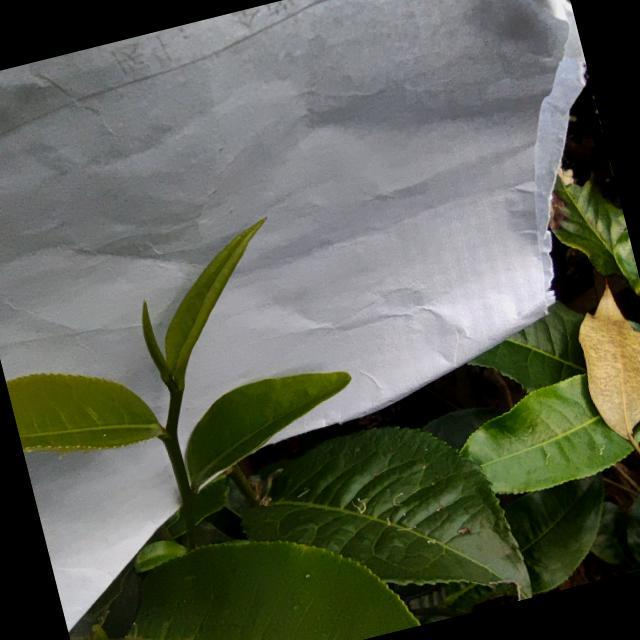Stem: (165, 436, 185, 470)
